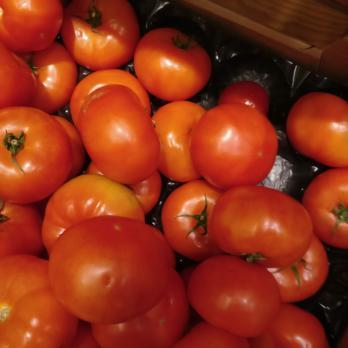Tomato-: (1, 0, 222, 348), (218, 74, 348, 348)
